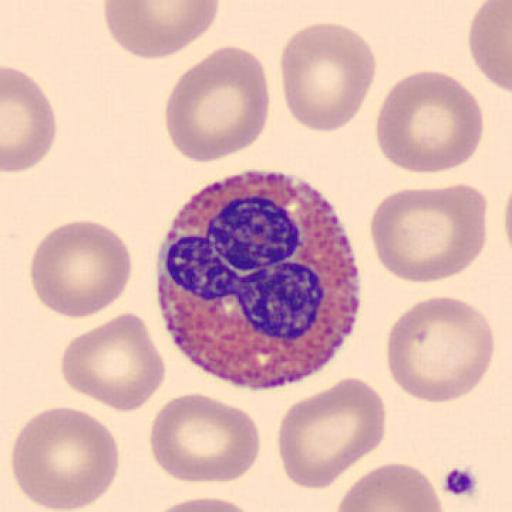RBC: (276, 376, 388, 490), (164, 44, 270, 164), (368, 181, 490, 284), (384, 294, 496, 404), (375, 67, 484, 176), (9, 404, 120, 511), (59, 310, 167, 414), (280, 20, 378, 134), (148, 391, 262, 486), (28, 219, 132, 320), (102, 0, 220, 61), (2, 67, 58, 174), (334, 461, 444, 512), (468, 0, 512, 95), (146, 494, 264, 512), (503, 176, 512, 264)
WBC: (157, 175, 364, 391)
